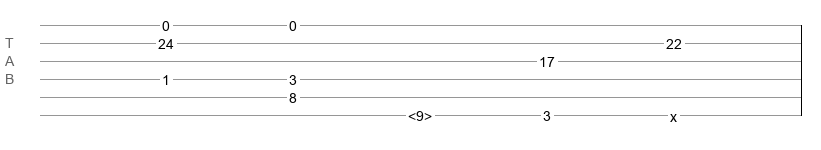0: (162, 18, 170, 28), (289, 18, 297, 28)
1: (162, 72, 170, 82)
17: (539, 54, 555, 64)
22: (666, 36, 682, 46)
24: (158, 36, 174, 46)
3: (289, 72, 297, 82), (543, 108, 551, 118)
8: (289, 90, 297, 100)
harmonic: (408, 108, 432, 118)
x: (670, 109, 677, 117)
